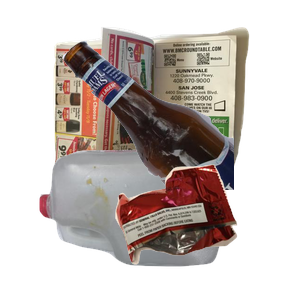glass: (60, 38, 300, 218)
paper: (51, 24, 291, 204)
plastic: (37, 147, 254, 300)
trash: (113, 162, 300, 300)
